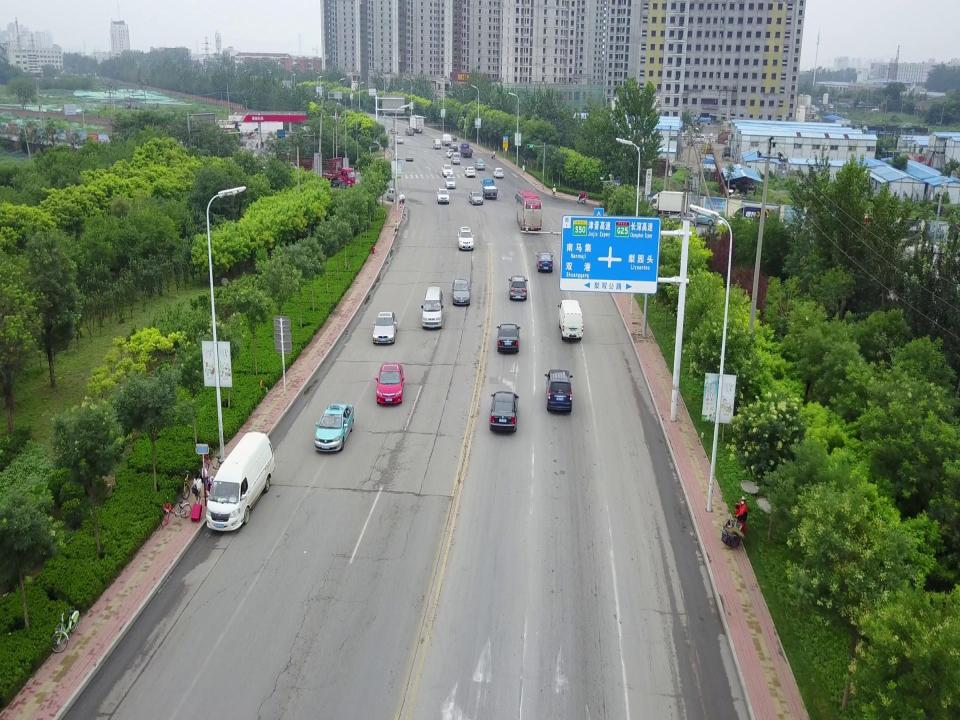bus: (514, 188, 542, 231)
car: (315, 403, 355, 452), (488, 390, 520, 434), (375, 362, 405, 405), (372, 311, 398, 345), (496, 323, 522, 352), (719, 215, 749, 234), (507, 275, 528, 301), (451, 279, 471, 306), (535, 252, 554, 274), (458, 225, 474, 250), (670, 212, 698, 226), (691, 211, 716, 226), (386, 186, 405, 203), (468, 190, 484, 205), (436, 187, 450, 204), (442, 164, 454, 177), (492, 167, 504, 179), (464, 166, 476, 177), (446, 176, 456, 189), (475, 158, 485, 170), (394, 134, 404, 145), (445, 148, 455, 158), (405, 128, 414, 136), (449, 143, 457, 152), (390, 127, 398, 134)
truck: (286, 152, 356, 190), (649, 192, 690, 219), (480, 178, 498, 199), (408, 114, 424, 132), (459, 142, 473, 157)
van: (205, 430, 275, 532), (543, 368, 573, 412), (558, 297, 584, 341), (420, 286, 444, 330), (441, 134, 451, 147), (450, 152, 460, 164), (692, 134, 704, 144), (723, 146, 731, 157), (433, 140, 441, 150)
